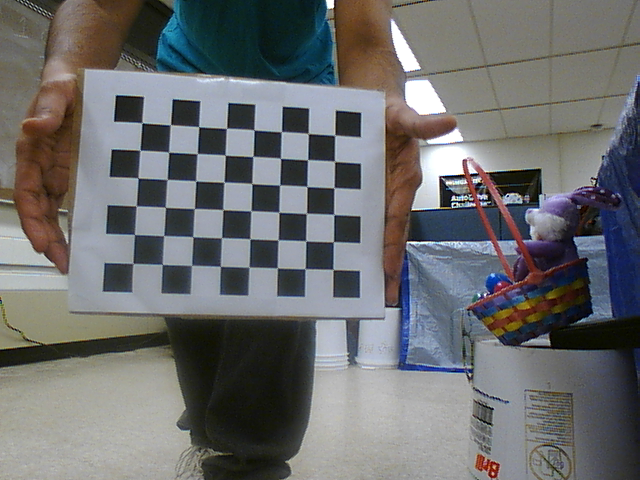bunny: (452, 149, 618, 345)
